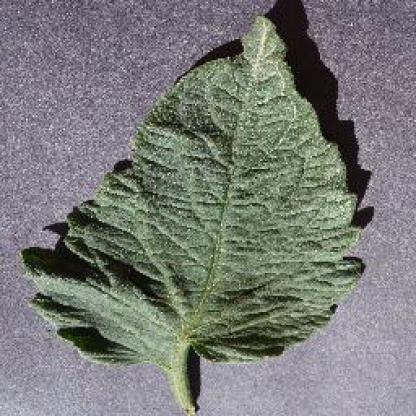good leaf: (150, 54, 304, 343)
